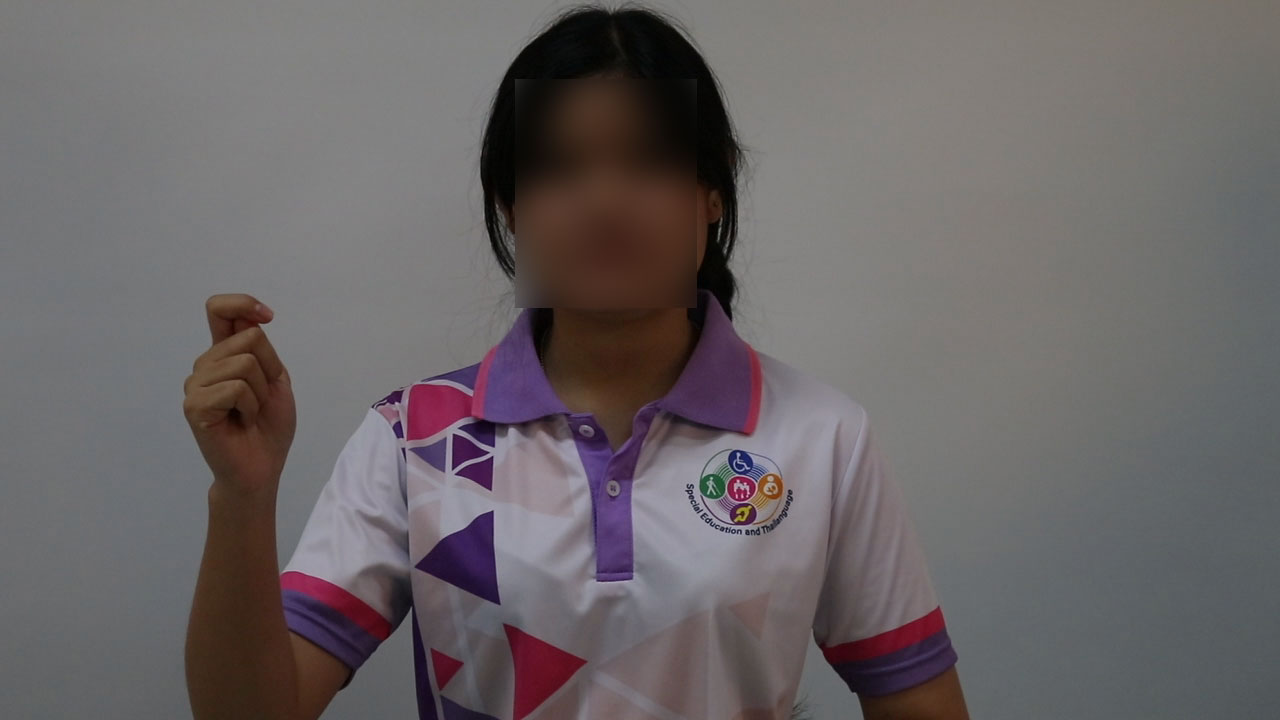or: (176, 284, 309, 507)
